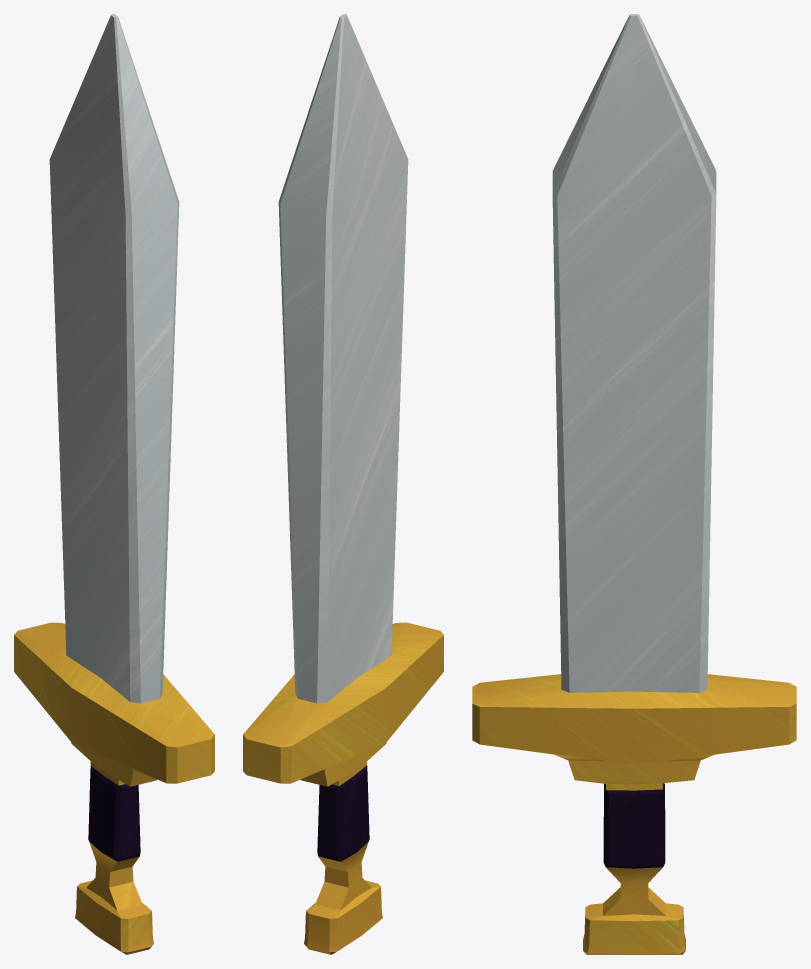
File: SwordSS.fbx
3 renders of one model, left to right at view 1: azimuth 30°, elevation 25°; view 2: azimuth 150°, elevation 25°; view 3: azimuth 270°, elevation 25°, orthographic.
Parts seen in each view (by area): view 1: sword SS; view 2: sword SS; view 3: sword SS.
Part boxes in pixels (x1,y1,x2,y2): sword SS: (14, 14, 214, 954); sword SS: (243, 14, 443, 954); sword SS: (472, 14, 796, 954).
Size of the model in its own units: 0.1632 by 1.68 by 0.5277.
